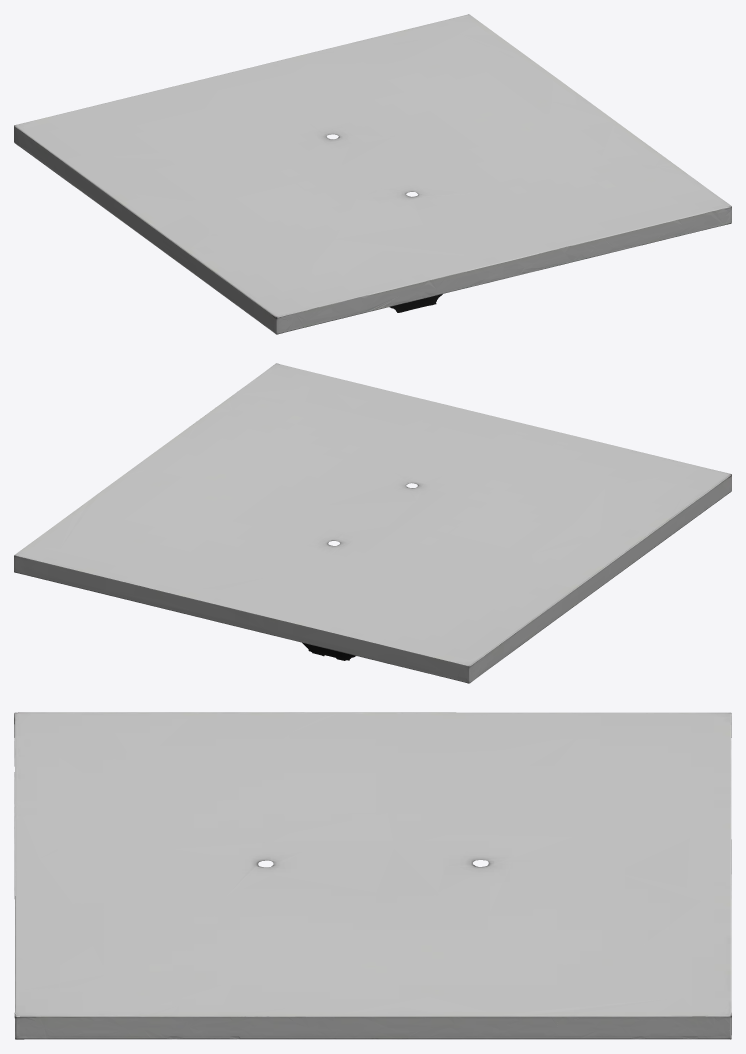
3 views of the same model, one above another, from view 1: azimuth 30°, elevation 25°; view 2: azimuth 150°, elevation 25°; view 3: azimuth 270°, elevation 25° (orthographic). The views are drawn at different scales.
Visible parts, largest first — view 1: geometry_0; view 2: geometry_0; view 3: geometry_0.
Part boxes in pixels (x1,y1,x2,y2): geometry_0: (14, 14, 731, 334); geometry_0: (14, 363, 731, 683); geometry_0: (14, 712, 731, 1039).
Bounding box in the file's own units: 1 × 0.2406 × 0.9984.
Materials: 1 (1 with a texture image).
